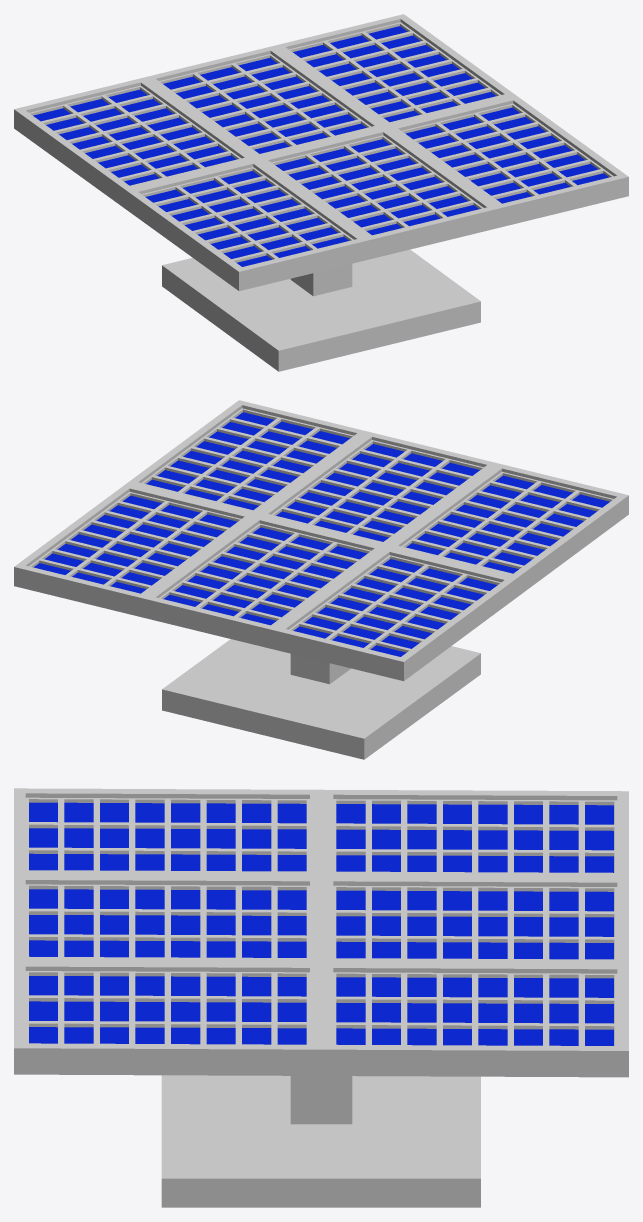
Rendered from solar_panel.glb.
3 views of the same model, one above another, from view 1: azimuth 30°, elevation 25°; view 2: azimuth 150°, elevation 25°; view 3: azimuth 270°, elevation 25° (orthographic). The views are drawn at different scales.
Parts seen in each view (by area): view 1: foot.001, foot; view 2: foot.001, foot; view 3: foot.001, foot.
Boxes of the visible parts, box(x1,y1,x2,y2) form: foot.001: box(14, 14, 628, 291); foot: box(162, 249, 480, 371); foot.001: box(14, 400, 628, 681); foot: box(162, 639, 480, 759); foot.001: box(14, 788, 628, 1077); foot: box(161, 1075, 480, 1207).
Size of the model in its own units: 3.85 by 1.53 by 3.85.
